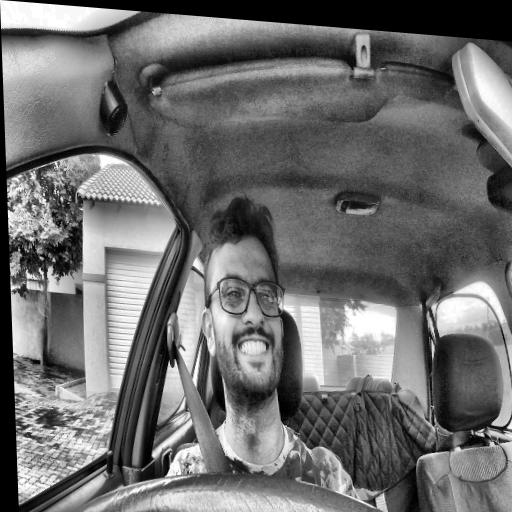awake: (195, 189, 289, 411)
